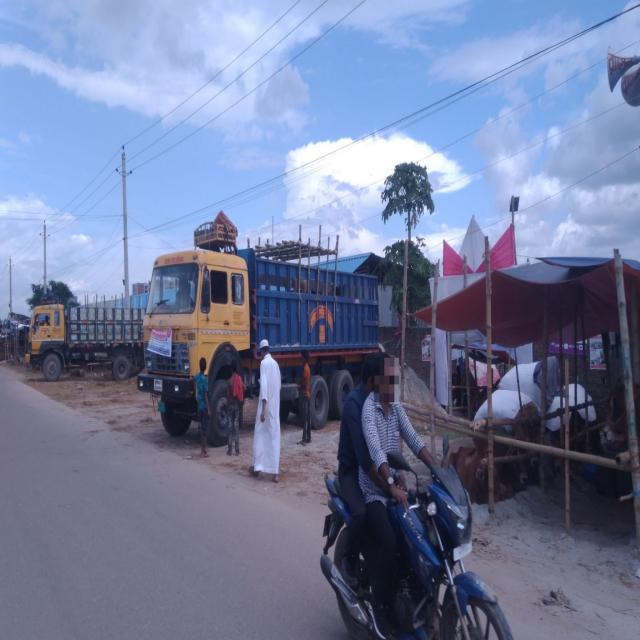motorbike: (307, 396, 526, 640)
truck: (142, 224, 385, 458), (20, 282, 144, 396)
